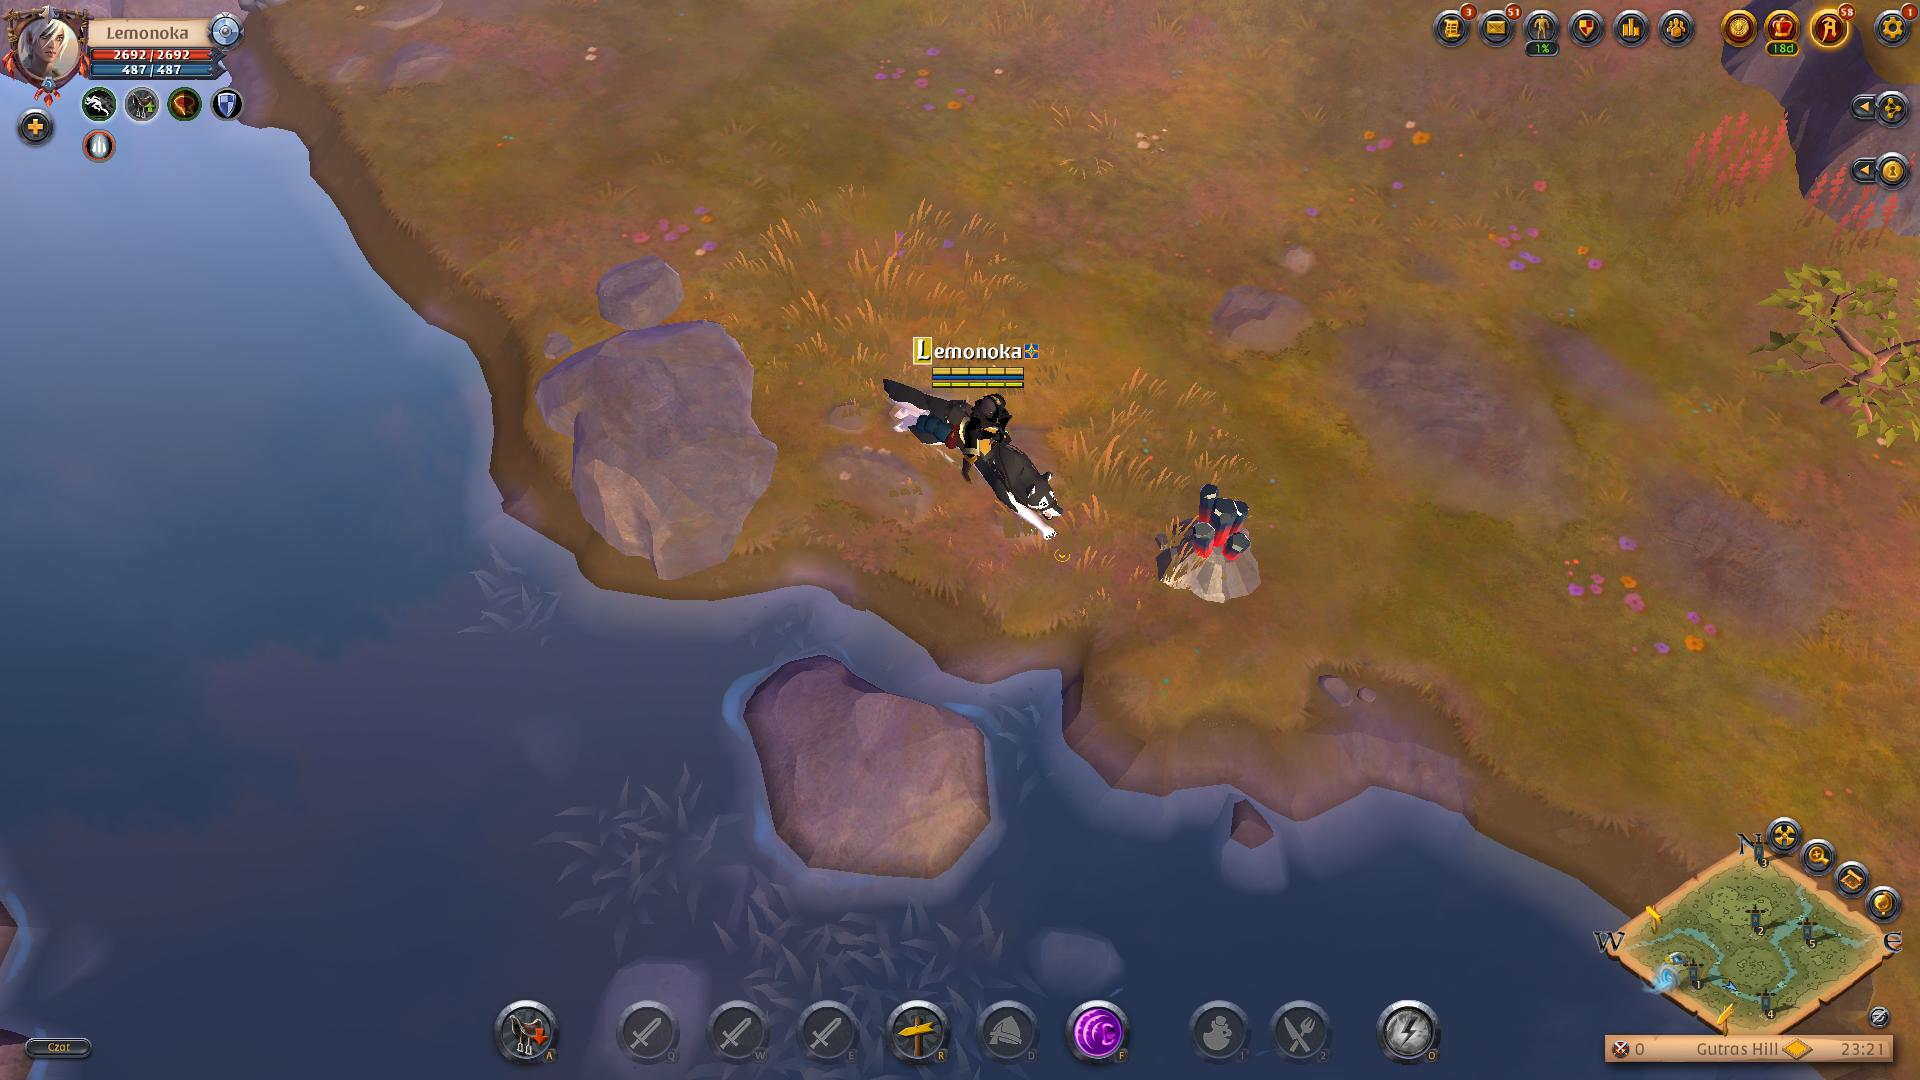ore tier 5: (1155, 484, 1267, 604)
